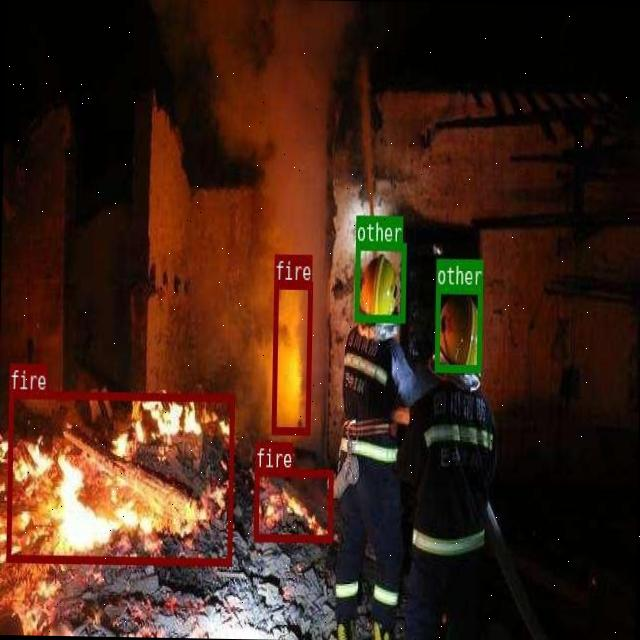fire: (5, 388, 234, 564), (270, 279, 312, 432), (254, 467, 332, 540)
